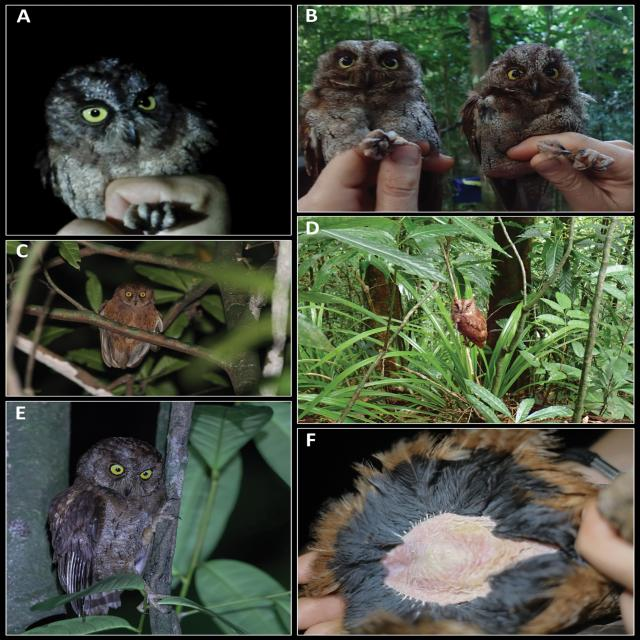Owl: (43, 51, 215, 223), (44, 440, 172, 607), (470, 40, 608, 182), (307, 32, 433, 182), (100, 282, 164, 372)
